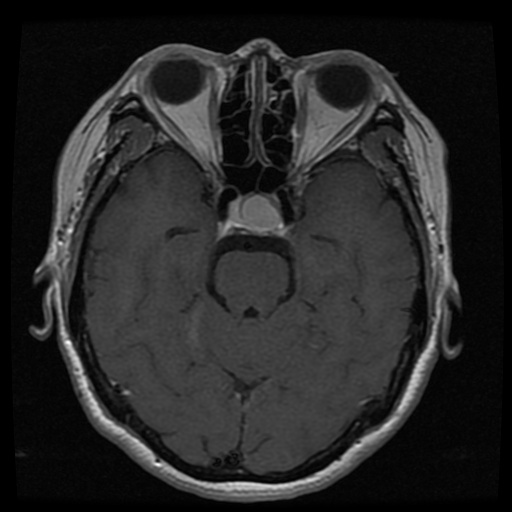pituitary: (227, 194, 281, 235)
